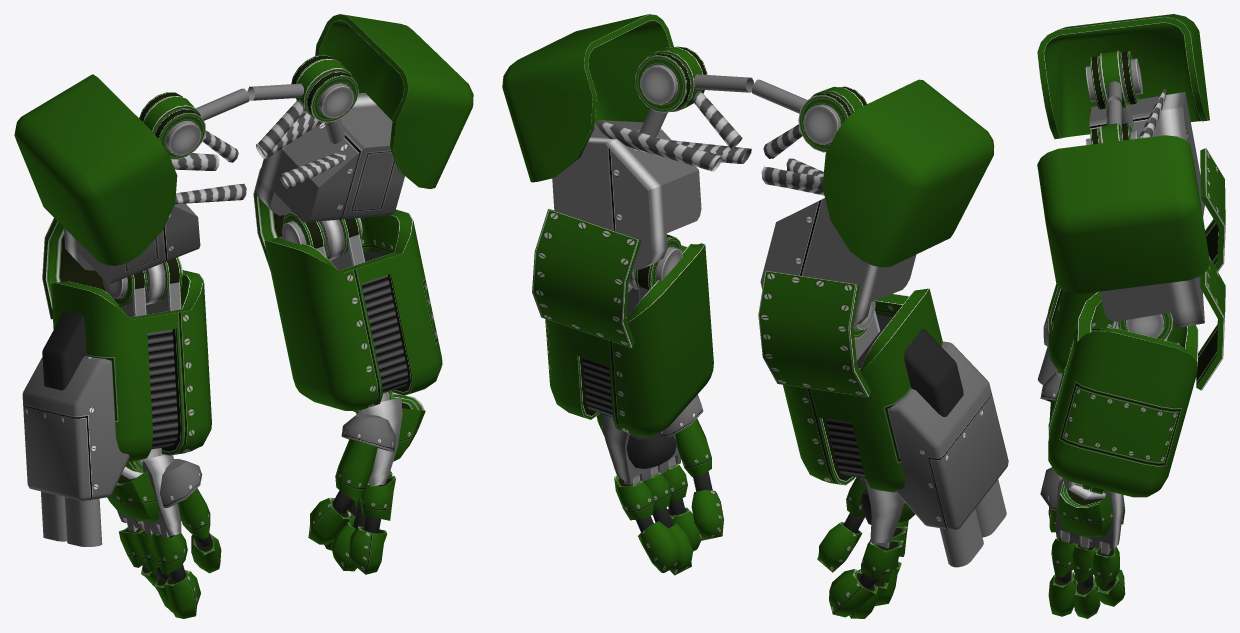
File: arms_h.fbx
The picture shows the model from 3 angles, left to right: view 1: azimuth 30°, elevation 25°; view 2: azimuth 150°, elevation 25°; view 3: azimuth 270°, elevation 25°; orthographic projection. The views are drawn at different scales.
Parts seen in each view (by area): view 1: ARMS_H; view 2: ARMS_H; view 3: ARMS_H.
Part boxes in pixels (x1=…): ARMS_H: x1=14, y1=14, x2=473, y2=618; ARMS_H: x1=502, y1=14, x2=1008, y2=618; ARMS_H: x1=1037, y1=14, x2=1225, y2=618.
Size of the model in its own units: 66.05 by 79.86 by 27.29.
